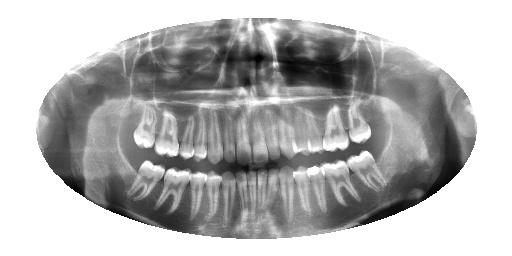i10healthy: (232, 167, 251, 227)
i11healthy: (218, 167, 236, 226)
i12healthy: (202, 168, 224, 225)
i13healthy: (183, 168, 210, 225)
i14healthy: (152, 161, 193, 223)
i15healthy: (124, 155, 167, 208)
i2healthy: (344, 147, 388, 199)
i3healthy: (317, 157, 364, 208)
i4healthy: (304, 164, 331, 213)
i5healthy: (292, 162, 312, 216)
i6healthy: (275, 162, 299, 225)
i7healthy: (265, 166, 280, 228)
i8healthy: (253, 164, 269, 223)
i9healthy: (246, 167, 257, 222)
u10healthy: (220, 109, 239, 167)
u11healthy: (205, 106, 225, 169)
u12healthy: (191, 109, 210, 163)
u13healthy: (177, 107, 196, 162)
u14healthy: (152, 110, 183, 160)
u15healthy: (129, 101, 157, 151)
u2healthy: (343, 96, 375, 148)
u3healthy: (321, 102, 351, 155)
u4healthy: (303, 101, 326, 154)
u5healthy: (287, 101, 312, 158)
u6healthy: (276, 109, 302, 162)
u7healthy: (262, 105, 285, 162)
u8healthy: (249, 107, 270, 169)
u9healthy: (234, 108, 255, 169)
